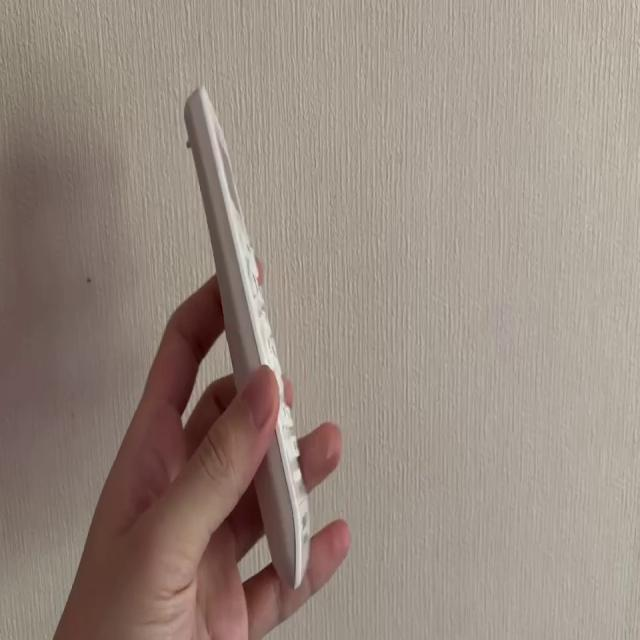remote: (185, 83, 311, 588)
